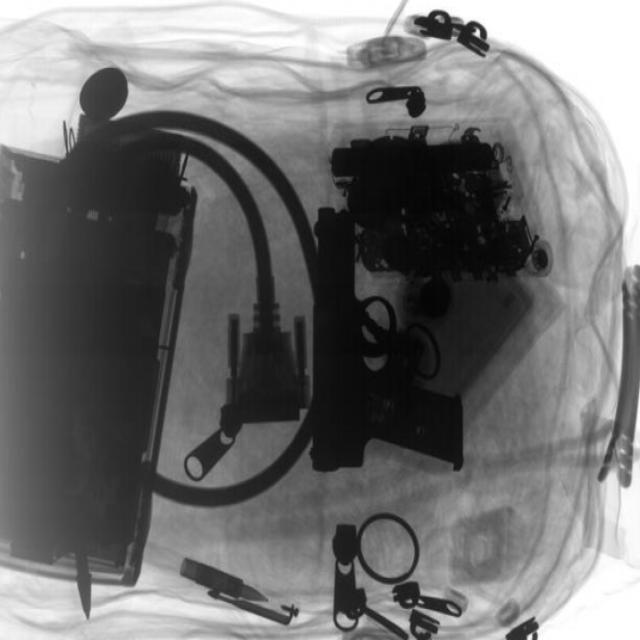GUN: (303, 213, 469, 482)
